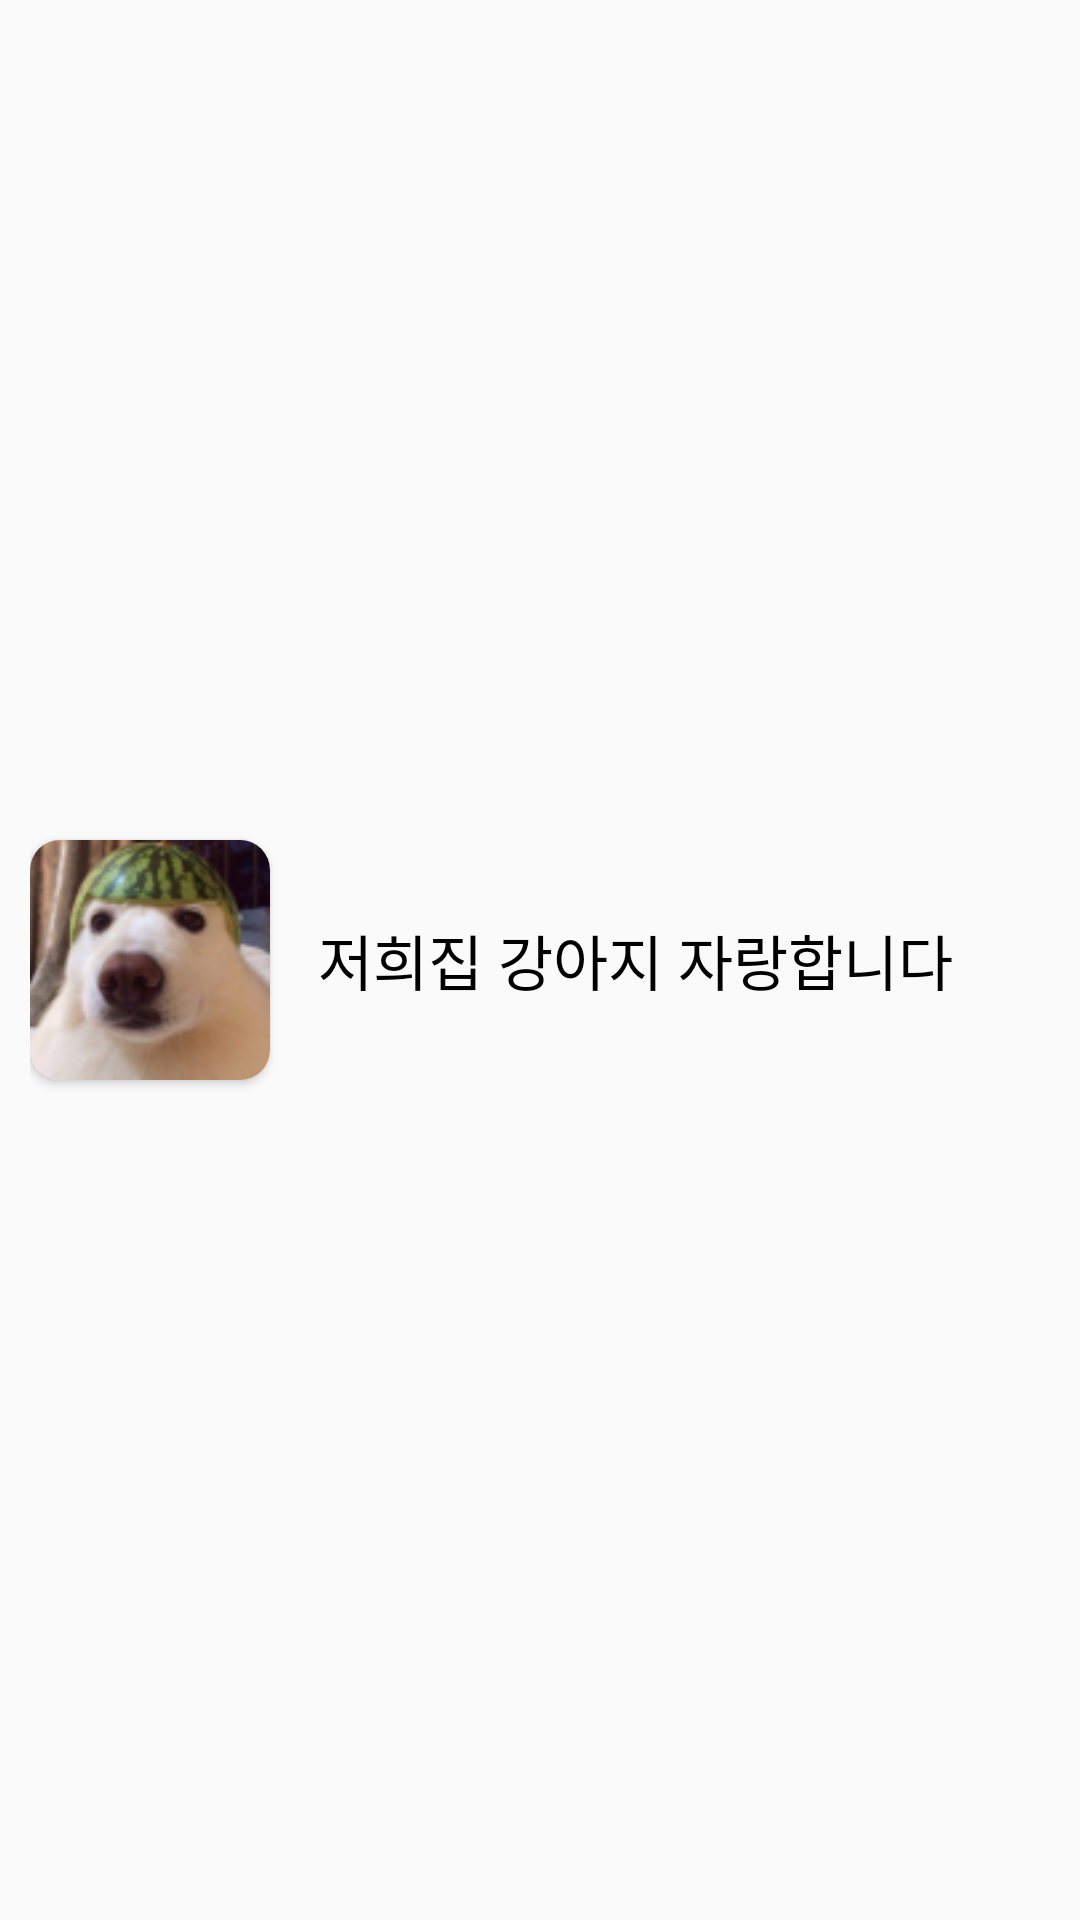

Icon bounding boxes for this 1080w x 1920h phone screenshot, format (x1, y1, x2, y2):
cutecute dog: (30, 840, 270, 1080)
